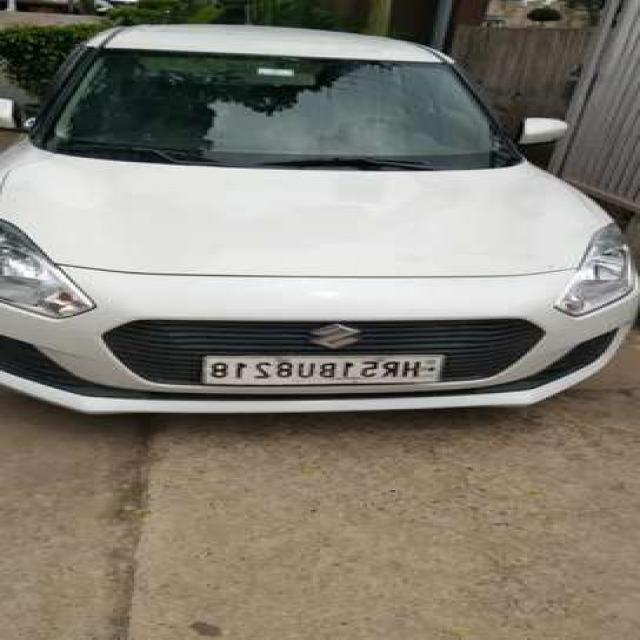license_plate: (195, 352, 451, 387)
